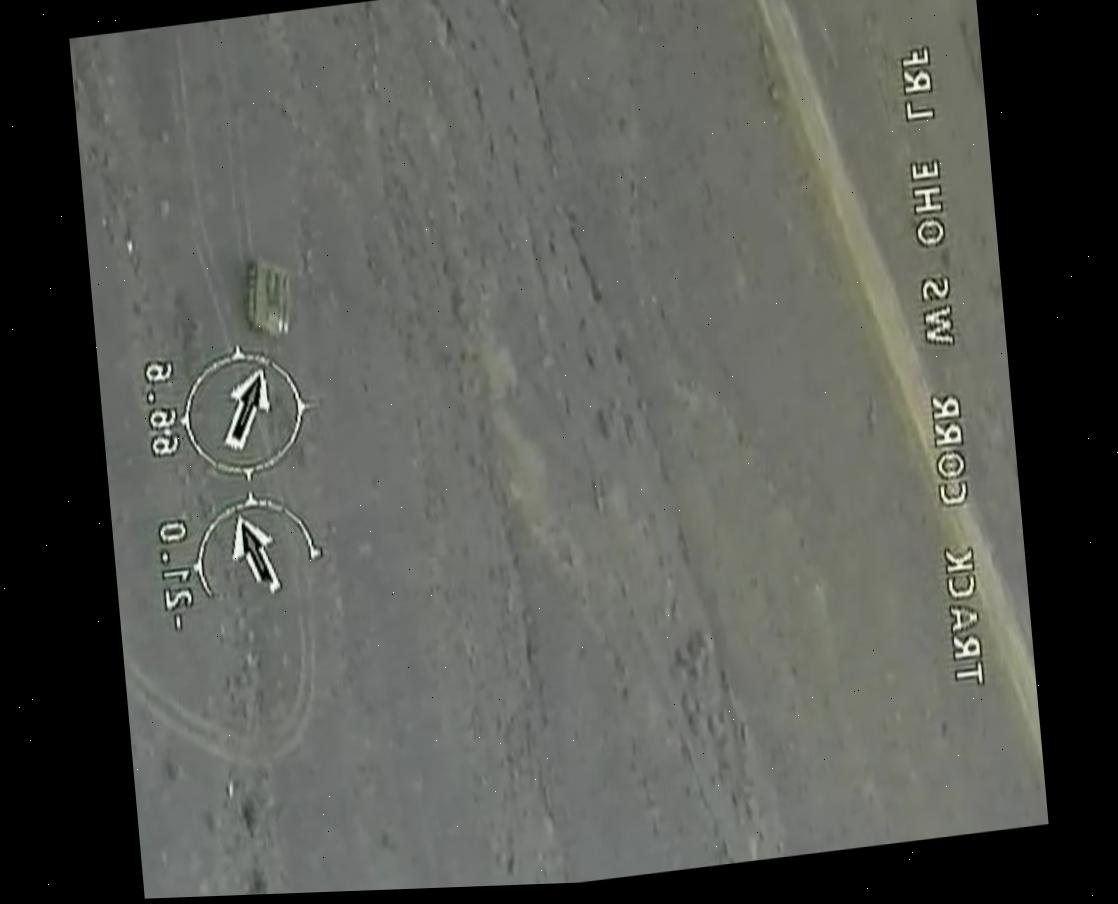armored_car: (238, 247, 297, 341)
